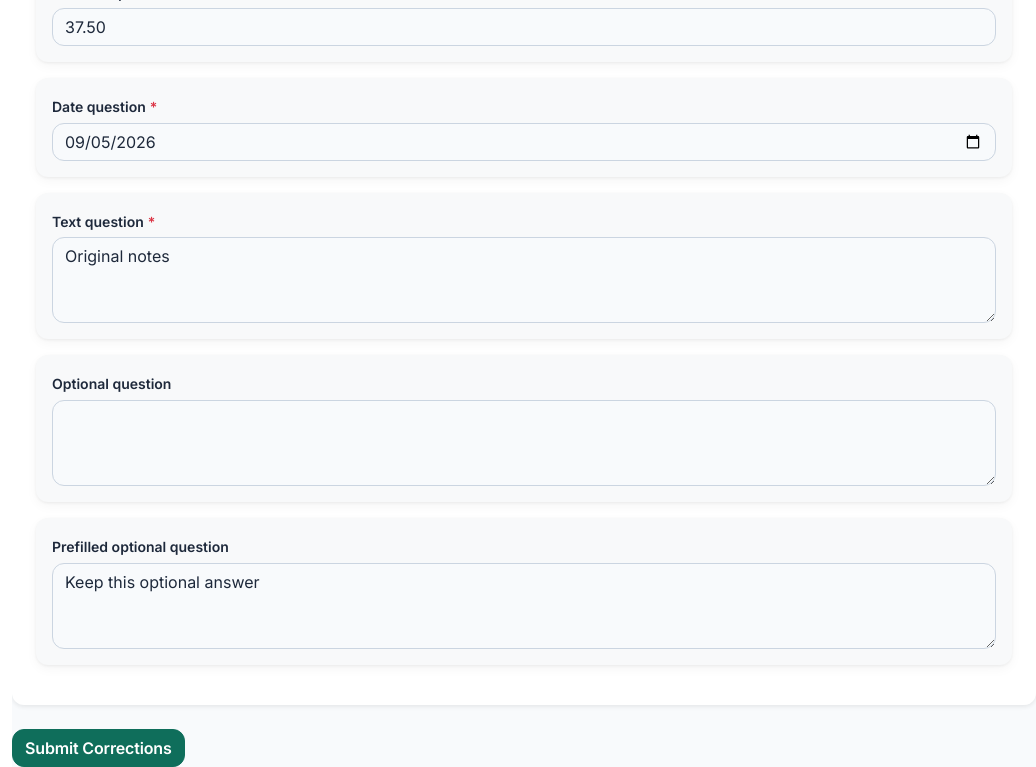
CitizenScreeningCorrectionPage › disables submission while the request is pending
(page scrolled)
Click the button "Submit Corrections": point(98, 748) [12,728,185,766]
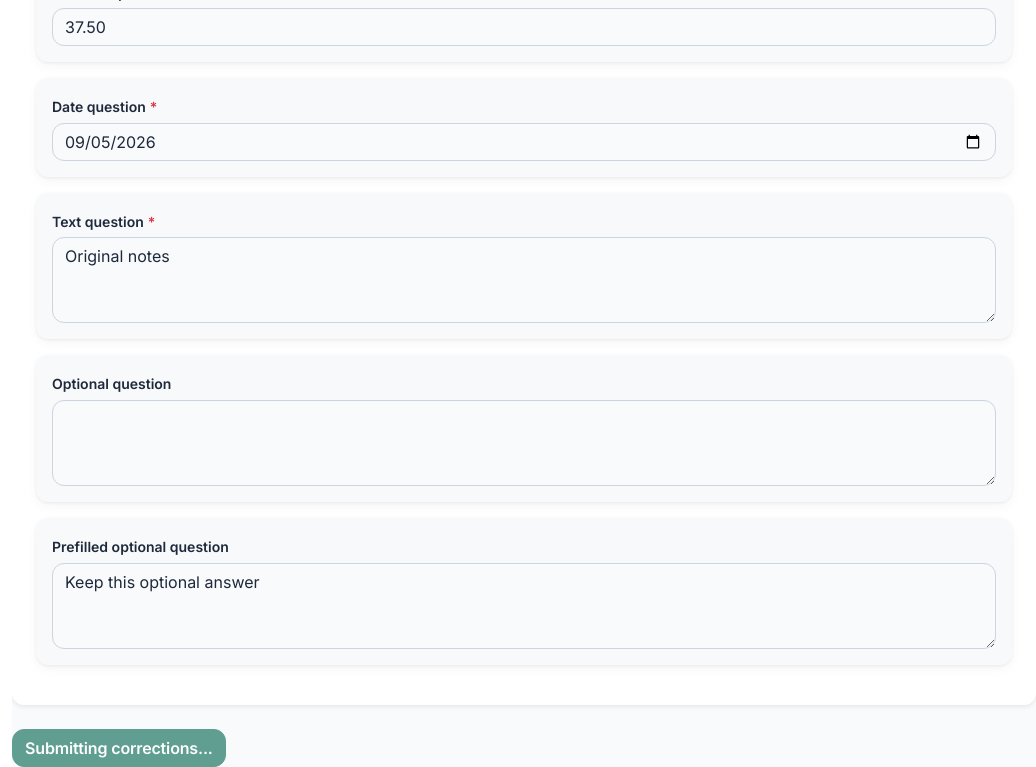
Result: the button "Submitting corrections..." is disabled at [12,728,226,766]
